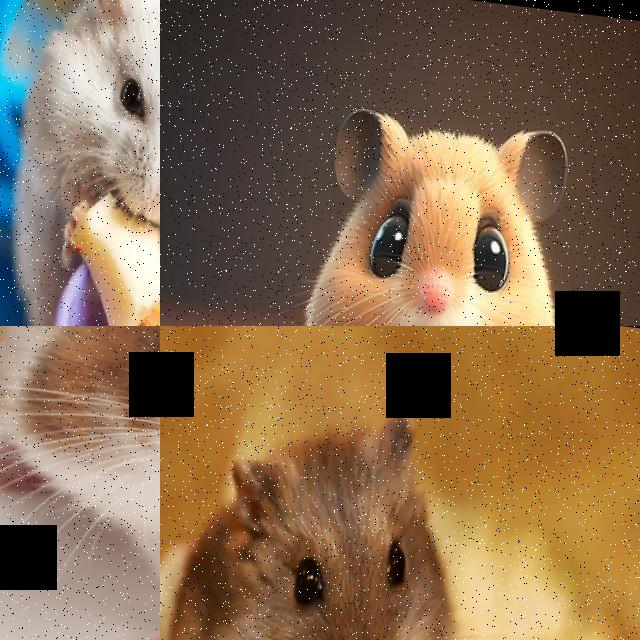hamster: (160, 376, 492, 640), (273, 95, 590, 326), (0, 0, 160, 326), (0, 326, 160, 640)
